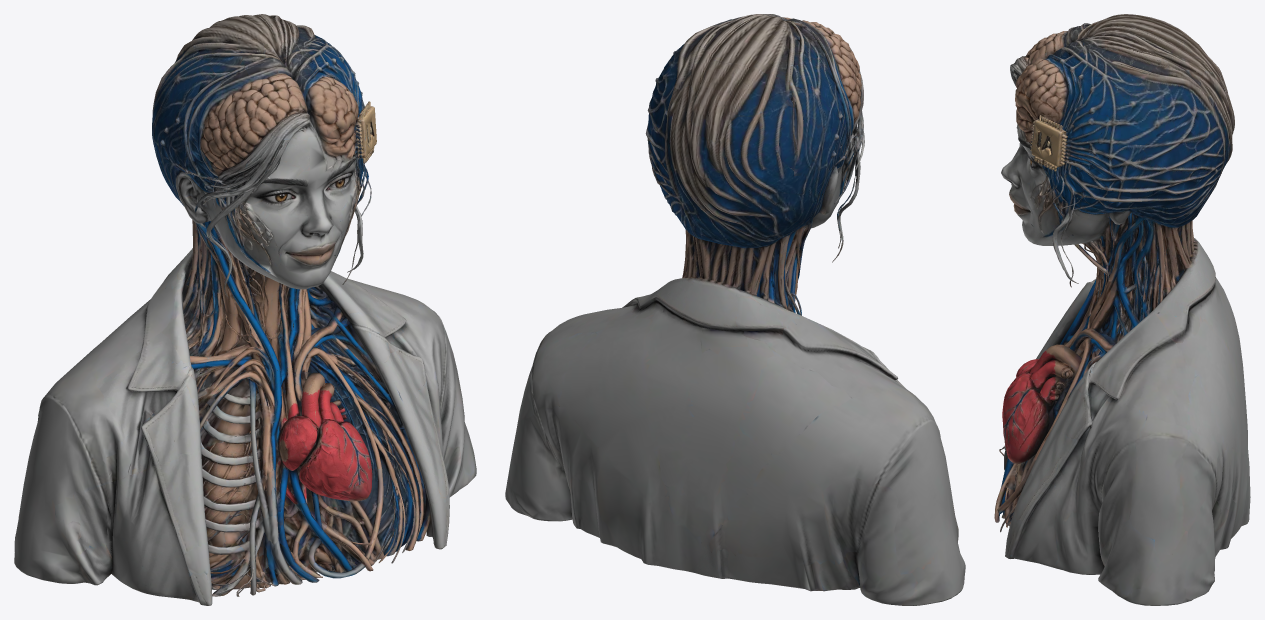
File: anatomia-sintetica.glb
The picture shows the model from 3 angles, left to right: view 1: azimuth 30°, elevation 25°; view 2: azimuth 150°, elevation 25°; view 3: azimuth 270°, elevation 25°; orthographic projection. The views are drawn at different scales.
Parts seen in each view (by area): view 1: SyntheticAnatomy; view 2: SyntheticAnatomy; view 3: SyntheticAnatomy.
Boxes of the visible parts, box(x1,y1,x2,y2) form: SyntheticAnatomy: box(14, 14, 476, 605); SyntheticAnatomy: box(505, 14, 965, 605); SyntheticAnatomy: box(994, 14, 1250, 605).
Bounding box in the file's own units: 1.75 × 1.9 × 0.9191.
Materials: 1 (1 with a texture image).
